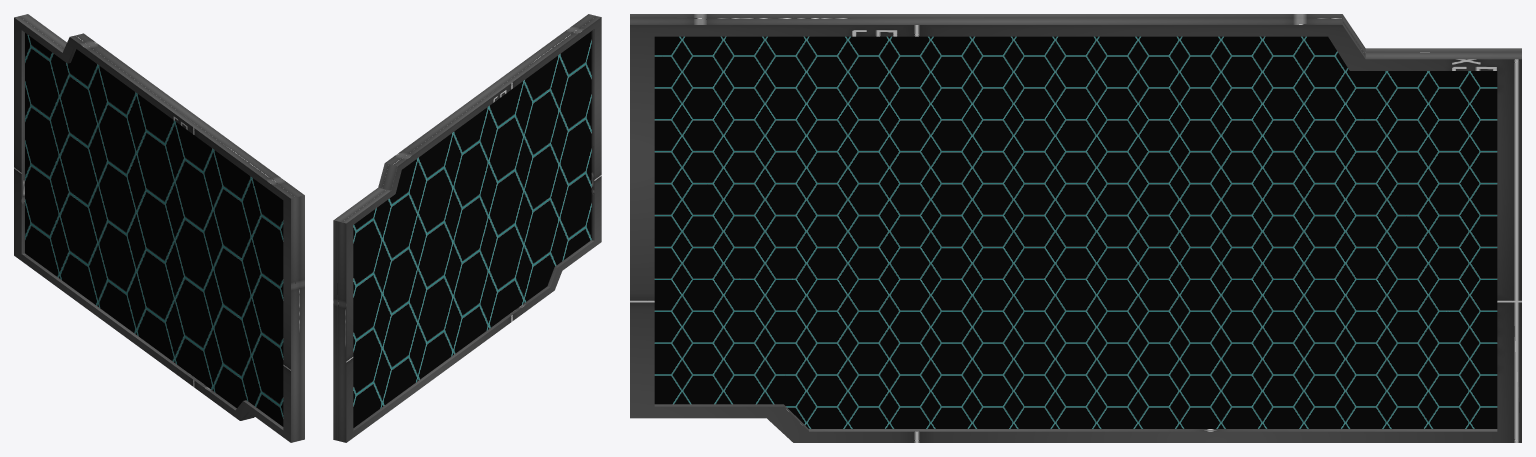
File: glass-wall.fbx
3 renders of one model, left to right at view 1: azimuth 30°, elevation 25°; view 2: azimuth 150°, elevation 25°; view 3: azimuth 270°, elevation 25°, orthographic. The views are drawn at different scales.
Parts seen in each view (by area): view 1: Cube; view 2: Cube; view 3: Cube.
Boxes of the visible parts, x1,y1,x2,y2 form: Cube: (14,14,304,442); Cube: (333,14,601,442); Cube: (630,14,1521,442).
Size of the model in its own units: 31.45 by 555 by 1073.
